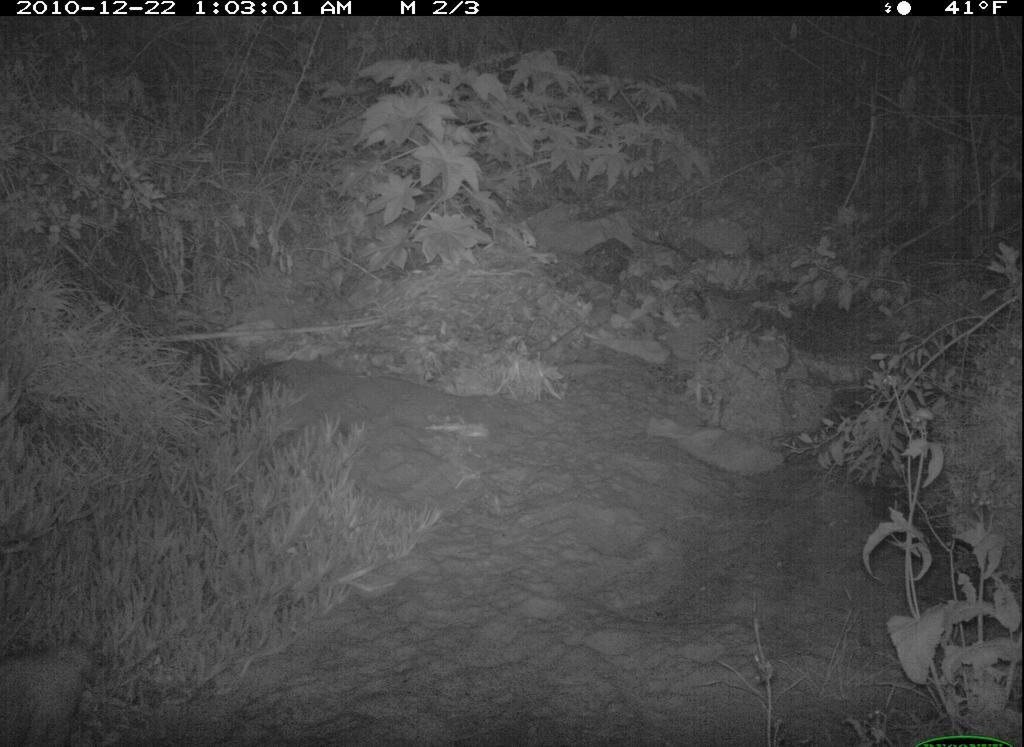bobcat: (1, 633, 127, 747)
